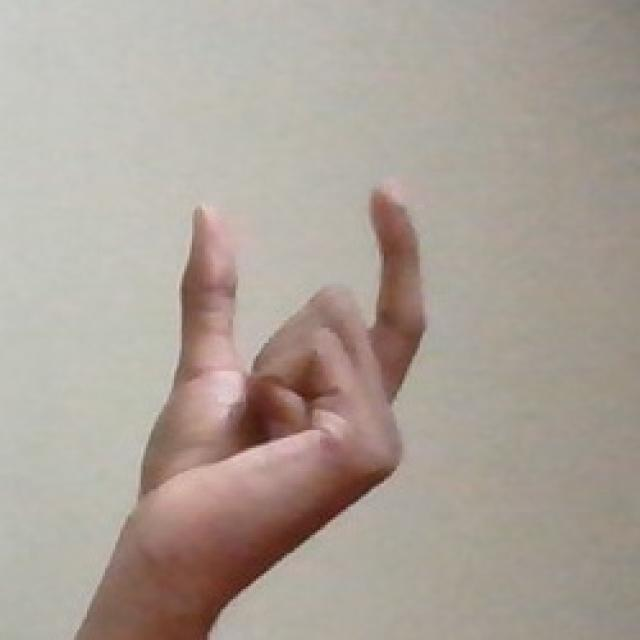Alphabet-U: (109, 164, 448, 610)
